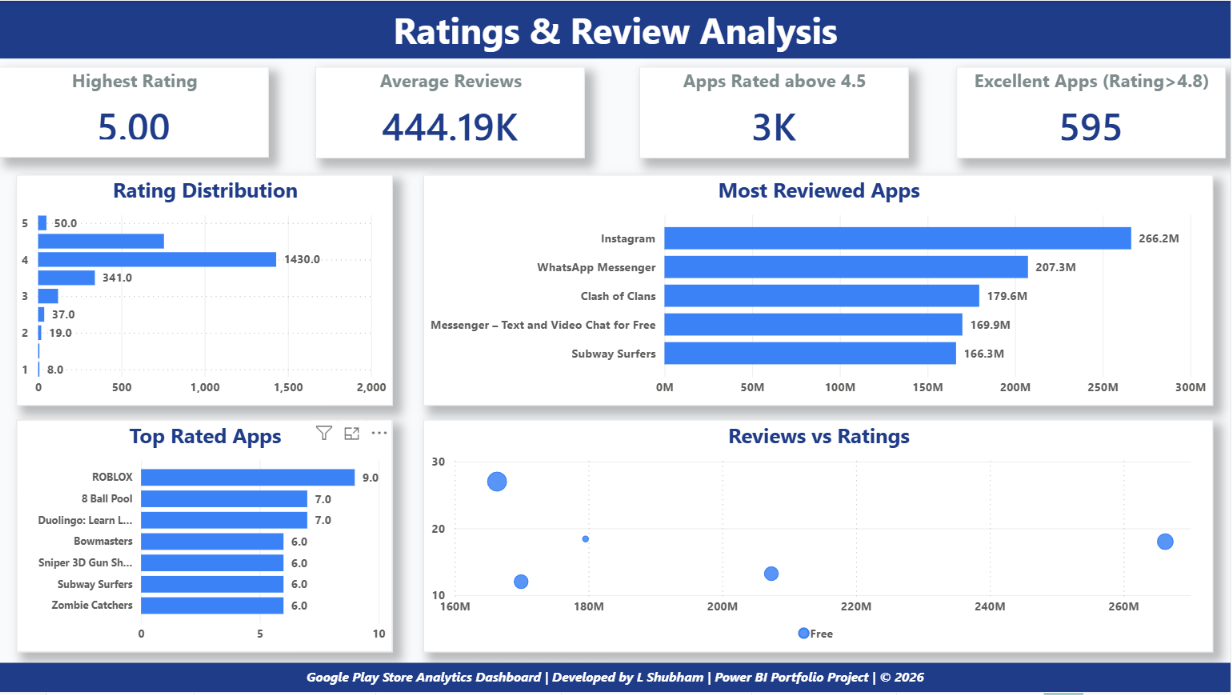

The page's visual inventory and layout, read from the dashboard file:
{"tool":"powerbi","page":{"name":"Ratings & Review Analysis","canvas":[1280,720],"ordinal":1},"visuals":[{"type":"cardVisual","title":"Highest Rating","fields":{"Data":["Max(Apps.RatingClean)"]},"box":[0,68.6,279.9,94.7],"z":0},{"type":"cardVisual","title":"Average Reviews","fields":{"Data":["Measures .Average Reviews"]},"box":[328.3,68.7,280,95],"z":1000},{"type":"cardVisual","title":"Excellent Apps (Rating>4.8)","fields":{"Data":["Measures .Excellent Apps (Rating> 4.8)"]},"box":[994.6,68.7,280,95],"z":2000},{"type":"cardVisual","title":"Apps Rated above 4.5","fields":{"Data":["Measures .Apps Rated above 4.5"]},"box":[665.5,68.7,280,95],"z":3000},{"type":"clusteredBarChart","title":"Rating Distribution","fields":{"Category":["Apps.RatingClean (bins)"],"Y":["CountNonNull(Apps.App)"]},"box":[17.8,181.1,391.1,240.1],"z":4000},{"type":"clusteredBarChart","title":"Most Reviewed Apps","fields":{"Category":["Apps.App"],"Y":["Sum(Apps.Reviews)"]},"box":[440.5,181.1,820.6,240.1],"z":5000},{"type":"scatterChart","title":"Reviews vs Ratings","fields":{"X":["Sum(Apps.Reviews)"],"Y":["Sum(Apps.RatingClean)"],"Category":["Apps.App"],"Size":["Sum(Apps.Installs)"],"Series":["Apps.Type"]},"box":[440.5,435,820.6,241.5],"z":6000},{"type":"clusteredBarChart","title":"Top Rated Apps","fields":{"Category":["Apps.App"],"Y":["Measures .Apps Rated above 4.5"]},"box":[17.8,435,391.1,241.5],"z":7000},{"type":"textbox","box":[0,0,1280.3,60],"z":8000},{"type":"textbox","box":[0,687.5,1280.3,30],"z":8001}]}

Visuals, with their boxes in screenshot pixels (x1, y1, x2, y2), scaled from the page's 1280x720 canvas onto the 1232x695 screenshot:
"Highest Rating" cardVisual: rect(0, 66, 269, 158)
"Average Reviews" cardVisual: rect(316, 66, 585, 158)
"Excellent Apps (Rating>4.8)" cardVisual: rect(957, 66, 1227, 158)
"Apps Rated above 4.5" cardVisual: rect(641, 66, 910, 158)
"Rating Distribution" clusteredBarChart: rect(17, 175, 394, 407)
"Most Reviewed Apps" clusteredBarChart: rect(424, 175, 1214, 407)
"Reviews vs Ratings" scatterChart: rect(424, 420, 1214, 653)
"Top Rated Apps" clusteredBarChart: rect(17, 420, 394, 653)
textbox: rect(0, 0, 1231, 58)
textbox: rect(0, 664, 1231, 693)
